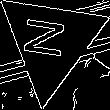N_E: (24, 18, 77, 66)
